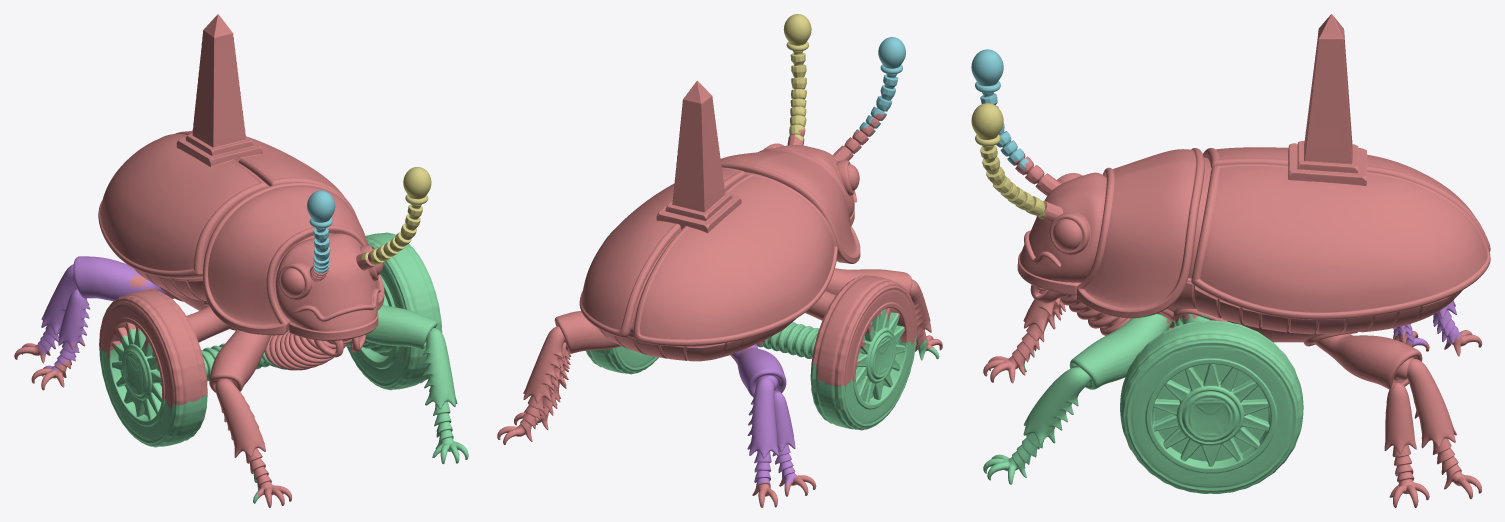
Rendered from parts_preview.glb.
The picture shows the model from 3 angles, left to right: view 1: azimuth 30°, elevation 25°; view 2: azimuth 150°, elevation 25°; view 3: azimuth 270°, elevation 25°; orthographic projection. The views are drawn at different scales.
Visible parts, largest first — view 1: Beetle_Car; view 2: Beetle_Car; view 3: Beetle_Car.
Part boxes in pixels (x1,y1,x2,y2): Beetle_Car: [14, 14, 468, 507]; Beetle_Car: [497, 14, 942, 507]; Beetle_Car: [971, 14, 1490, 507].
Bounding box in the file's own units: 0.6303 × 0.7268 × 0.8288.
